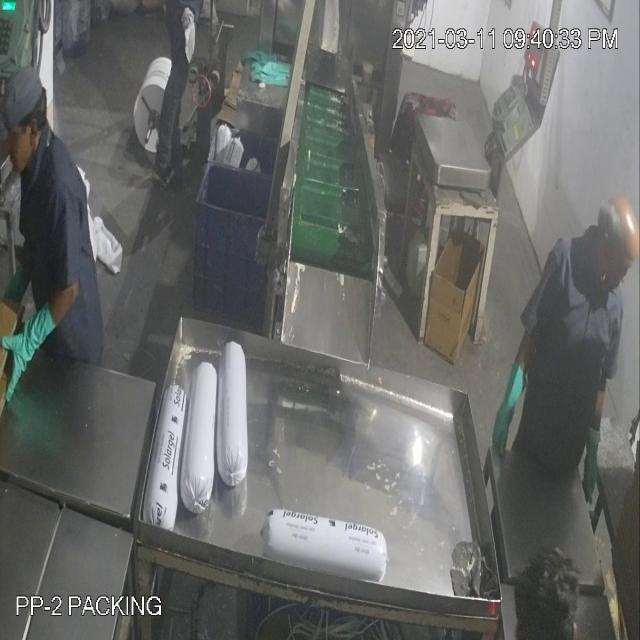Gloves: (35, 108, 504, 411)
